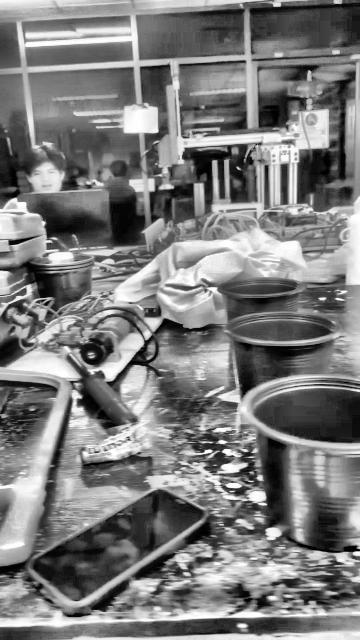pot: (243, 375, 359, 551), (227, 312, 339, 397), (219, 277, 301, 321), (24, 260, 97, 308)
